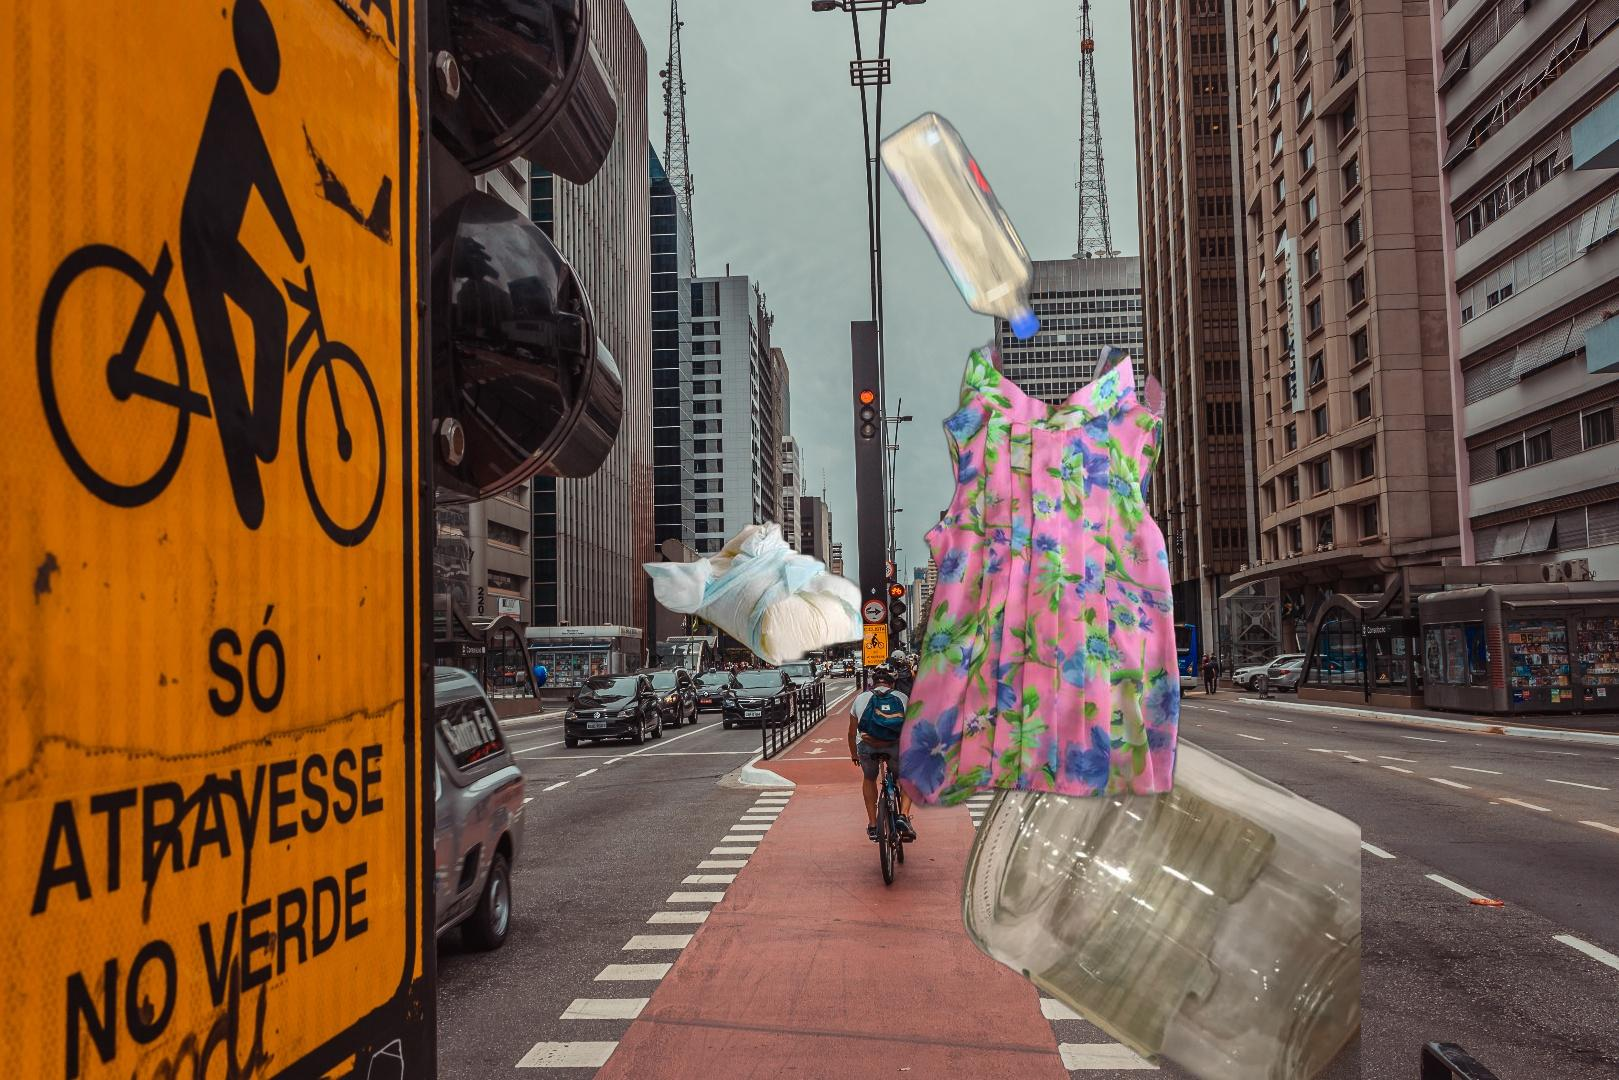clothes: (893, 334, 1185, 817)
glass: (957, 718, 1361, 1080)
plastic-bottles: (874, 106, 1046, 348)
trash: (638, 514, 870, 669)
